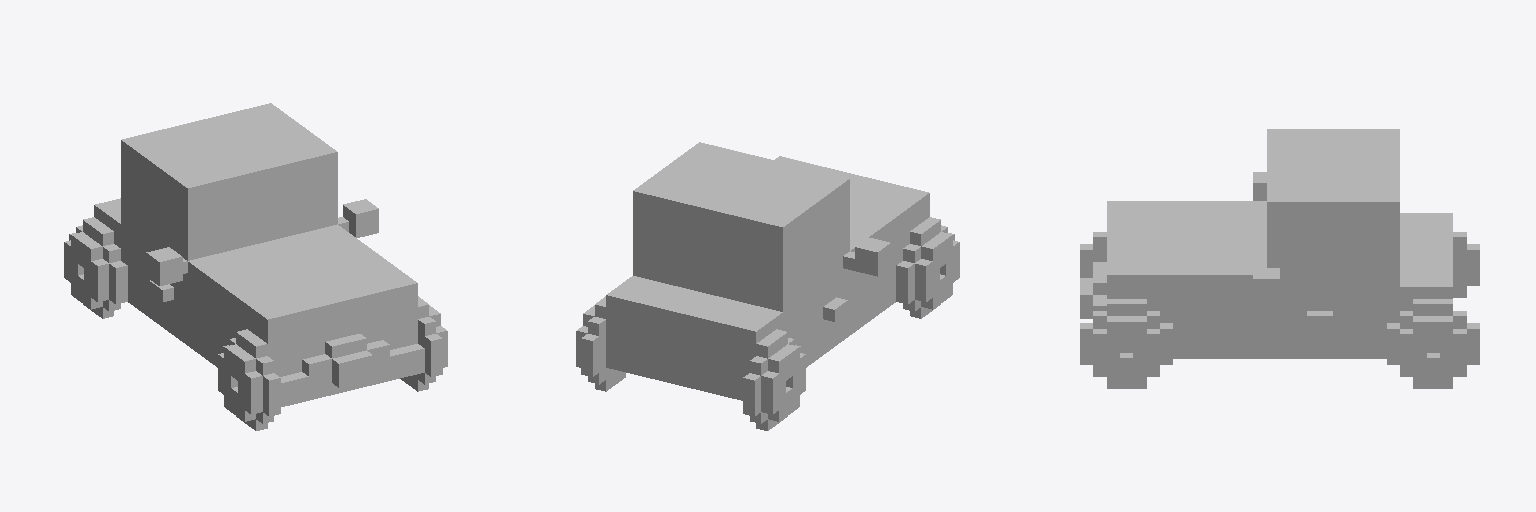
File: Car.obj
3 views of the same model, side by side, from view 1: azimuth 30°, elevation 25°; view 2: azimuth 150°, elevation 25°; view 3: azimuth 270°, elevation 25° (orthographic).
Visible parts, largest first — view 1: Car; view 2: Car; view 3: Car.
Part boxes in pixels (left/top/right/bottom): Car: left=64, top=103, right=447, bottom=430; Car: left=576, top=142, right=959, bottom=430; Car: left=1080, top=129, right=1479, bottom=388.
Bounding box in the file's own units: 19 × 15 × 30.